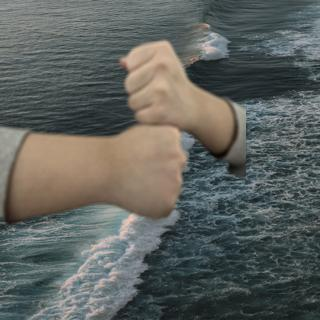CAREFUL: (34, 43, 241, 214)
